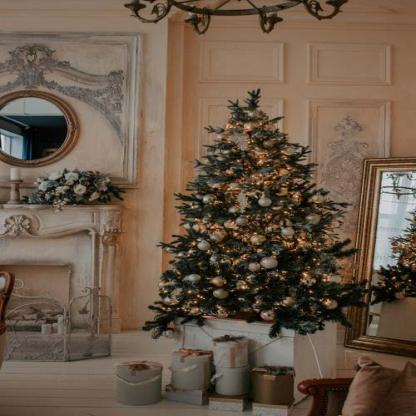present: (94, 350, 166, 402), (160, 344, 215, 404), (254, 362, 303, 404), (211, 362, 253, 394), (209, 337, 254, 366)
x_mas tree: (130, 90, 388, 337)
